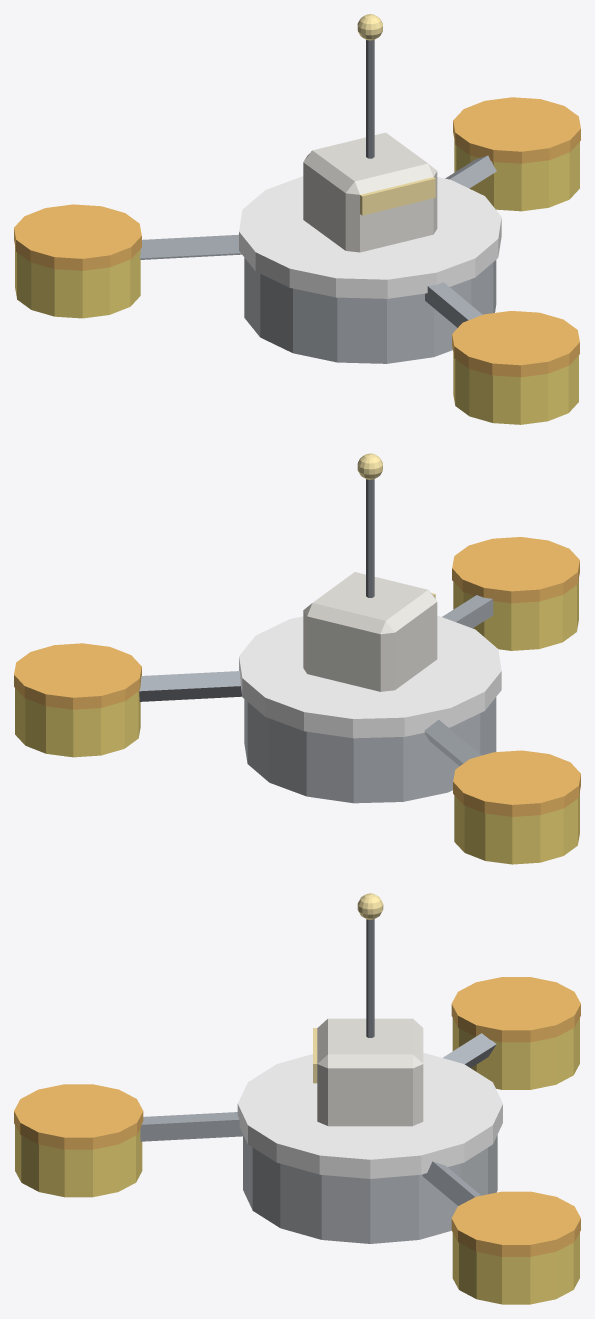
Rendered from wave.glb.
The picture shows the model from 3 angles, top to bottom: view 1: azimuth 30°, elevation 25°; view 2: azimuth 150°, elevation 25°; view 3: azimuth 270°, elevation 25°; orthographic projection.
Visible parts, largest first — view 1: main, rocker; view 2: main, rocker; view 3: main, rocker.
Boxes of the visible parts, x1,y1,x2,y2 form: main: (239, 14, 501, 363); rocker: (14, 97, 580, 424); main: (239, 453, 501, 803); rocker: (14, 537, 580, 864); main: (237, 893, 502, 1243); rocker: (14, 977, 580, 1304).
Size of the model in its own units: 1.19 by 0.615 by 1.07.
